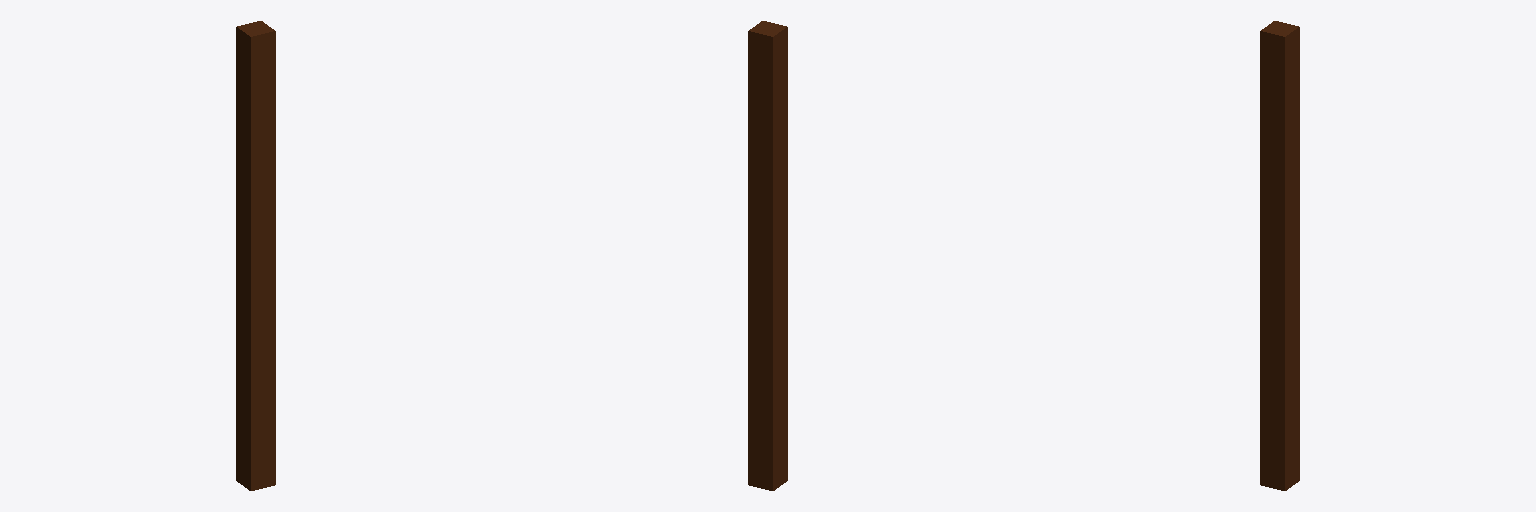
The robot description file, URDF, robot "tree_tall_slim":
<?xml version="1.0" ?>
<robot name="tree_tall_slim">
    <link name="block">
    <inertial>
      <origin xyz="0 0 0" rpy="0 0 0"/>
      <mass value="0.0"/>
      <inertia ixx="1" ixy="0" ixz="0" iyy="1" iyz="0" izz="1"/>
    </inertial>
    <!-- Visual representation of the cube (0.3m x 0.3m x 0.3m) -->
    <visual>
      <origin xyz="0 0 0" rpy="0 0 0"/>
      <geometry>
        <box size="0.4 0.4 7.0"/>
      </geometry>
      <material name="brown">
        <color rgba="0.35 0.20 0.10 1.0"/>
      </material>
    </visual>
    <!-- Collision representation of the cube (0.3m x 0.3m x 0.3m) -->
    <collision>
      <origin xyz="0 0 0" rpy="0 0 0"/>
      <geometry>
        <box size="0.4 0.4 7.0"/>
      </geometry>
    </collision>    
    <!-- Contact properties (optional, e.g., friction) --> 
    <contact>
      <lateral_friction value="1.0"/>
      <rolling_friction value="0.0"/>
      <restitution value="0.0"/>
    </contact>
  </link>
</robot>  

--- What the picture shows (computed from the rendered views, not written in the file) ---
Views: 3 orthographic renders of the robot side by side, from view 1: azimuth 30°, elevation 25°; view 2: azimuth 150°, elevation 25°; view 3: azimuth 330°, elevation 25°.
Model tree_tall_slim with 1 links and 0 joints (none), rooted at block, posed all joints at 0.
Links seen in each view (by area): view 1: block; view 2: block; view 3: block.
Link boxes in pixels (<box>): block: <box>236,21,275,490</box>; block: <box>748,21,787,490</box>; block: <box>1260,21,1299,490</box>.
Bounding box of the posed robot: 0.4 × 0.4 × 7 m (x, y, z).
Geometry: primitives only (box / cylinder / sphere), no mesh files.
